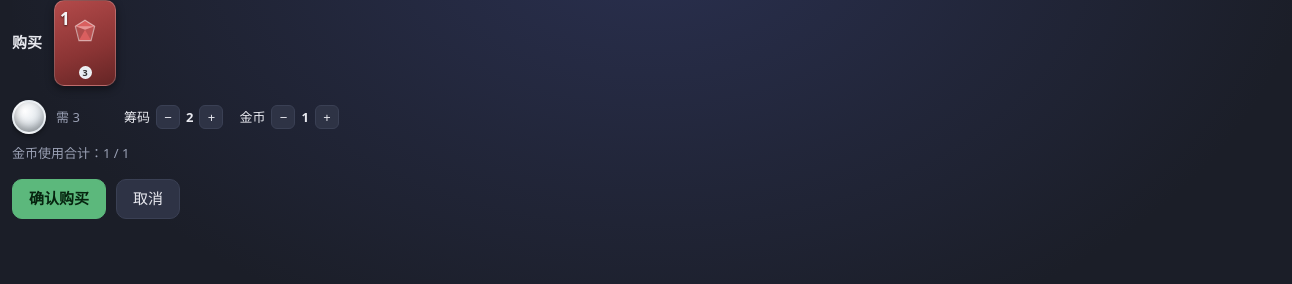
Test case: PaymentPanel › 调低筹码数量至不足时按钮置灰并提示
Click the button named "减少white筹码" at x=168, y=117, box 156,105 -> 180,129
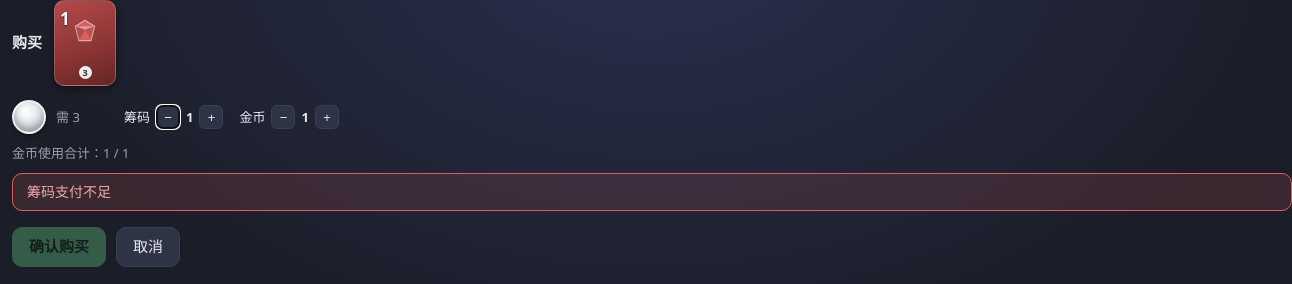
Result: the button "确认购买" is disabled at 12,227 -> 106,267
Result: the text "筹码支付不足" is shown at 12,173 -> 1291,211
